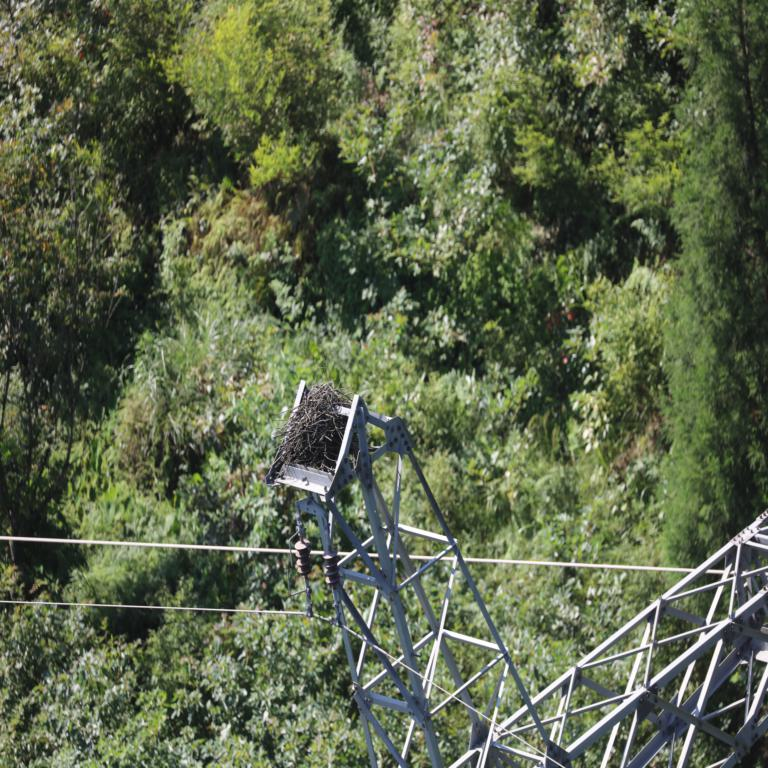nest: (284, 390, 355, 466)
